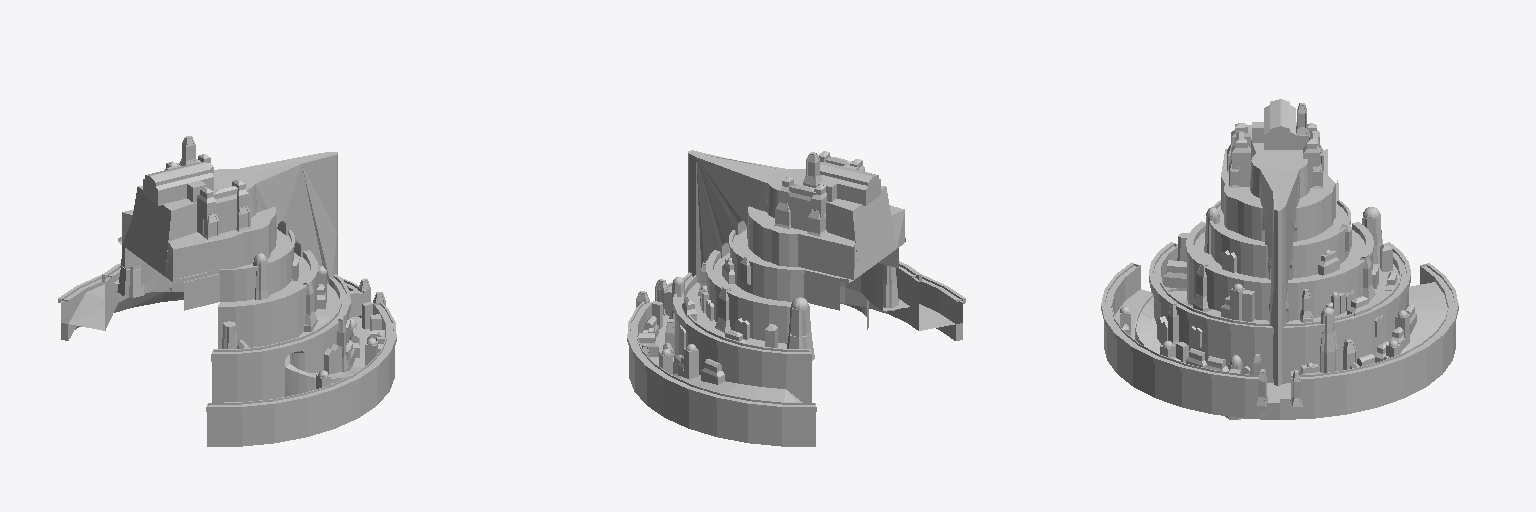
File: minas2.obj
3 renders of one model, left to right at view 1: azimuth 30°, elevation 25°; view 2: azimuth 150°, elevation 25°; view 3: azimuth 270°, elevation 25°, orthographic.
Parts seen in each view (by area): view 1: Minas_Tirith; view 2: Minas_Tirith; view 3: Minas_Tirith.
Part boxes in pixels (bbox=[...]): Minas_Tirith: bbox=[58, 136, 396, 446]; Minas_Tirith: bbox=[627, 150, 965, 446]; Minas_Tirith: bbox=[1101, 99, 1458, 419].
Size of the model in its own units: 1.89 by 1.82 by 2.36.